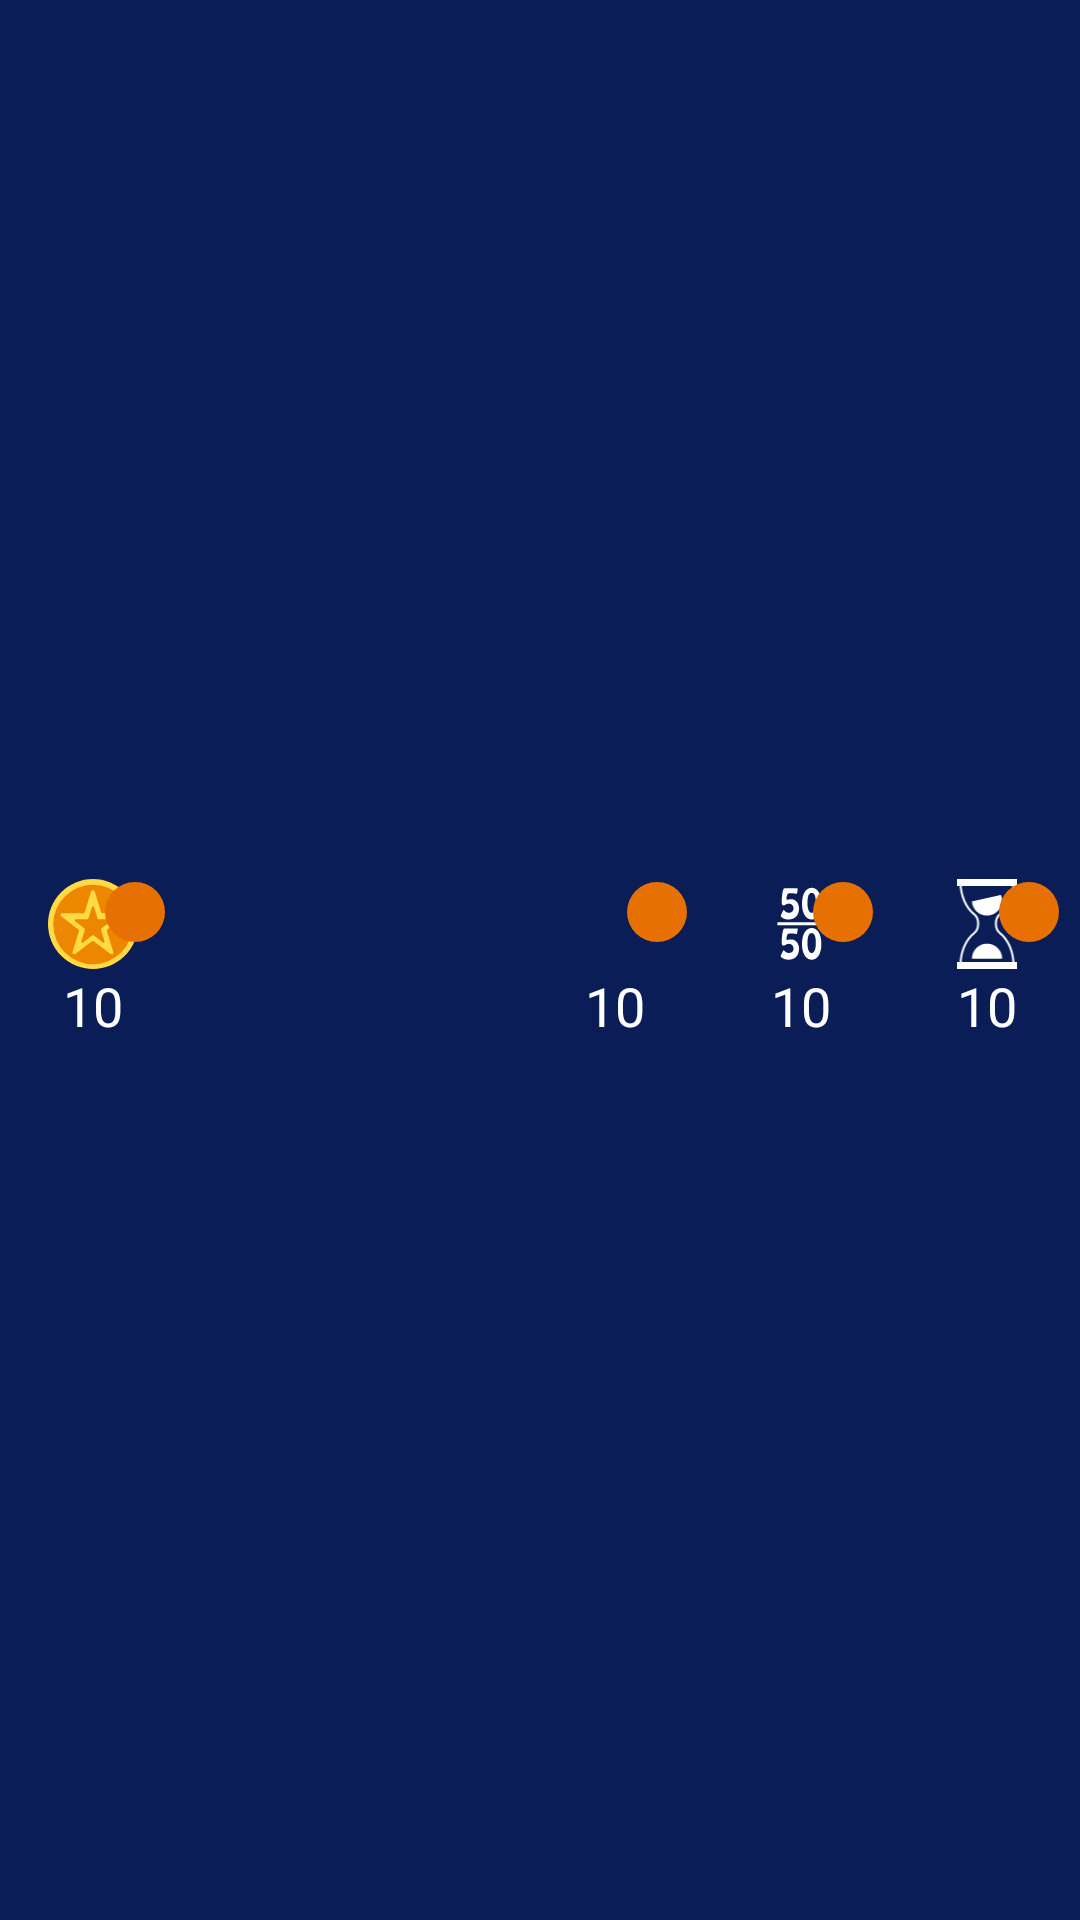

Icons on this 1080x1920 Android screen, each with its box as {"left": x1, "top": y1, "right": x2, "bottom": y2}:
coin: {"left": 48, "top": 879, "right": 138, "bottom": 969}
timer sand: {"left": 957, "top": 879, "right": 1032, "bottom": 969}
